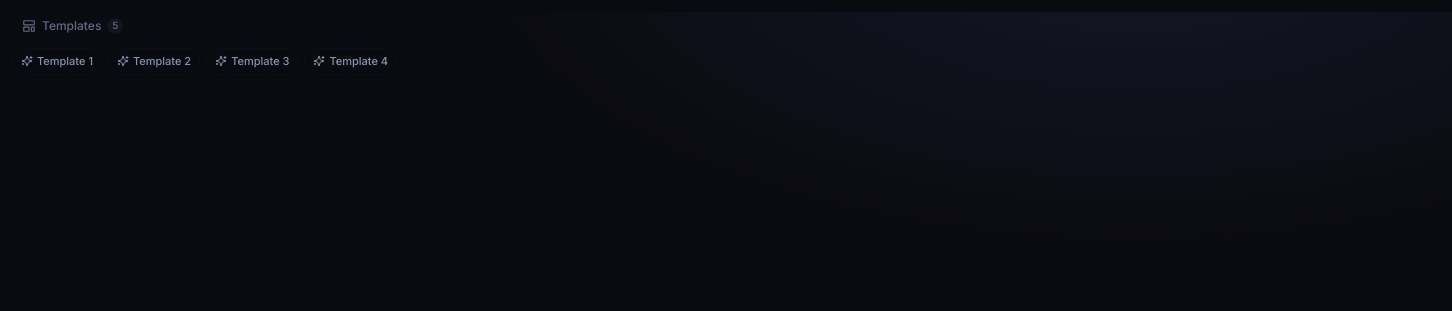
Test: TaskTemplatePicker (React Testing Library) › shows plural "N templates" in manager header when multiple templates exist
Click the button "Templates 5". click: (73, 26)
box: x1=12 y1=12 x2=133 y2=40
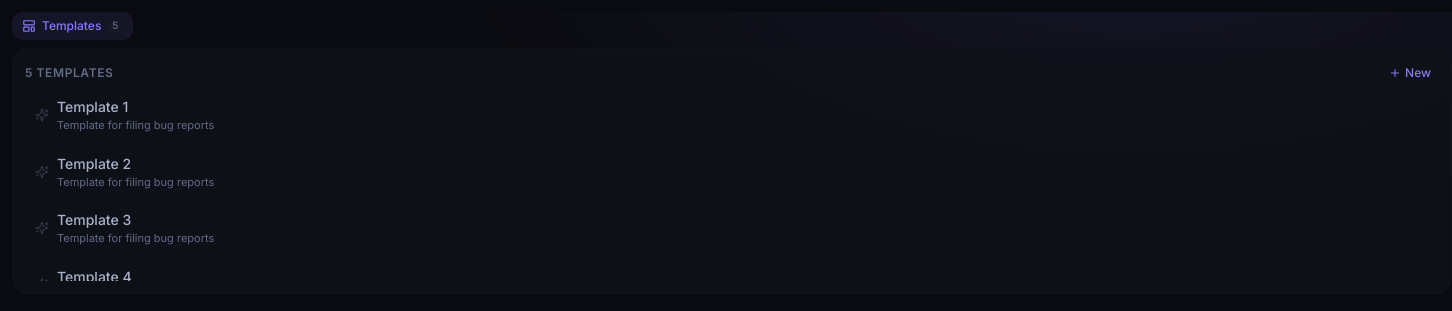
Result: the text "5 templates" is shown at x1=25 y1=65 x2=113 y2=81
